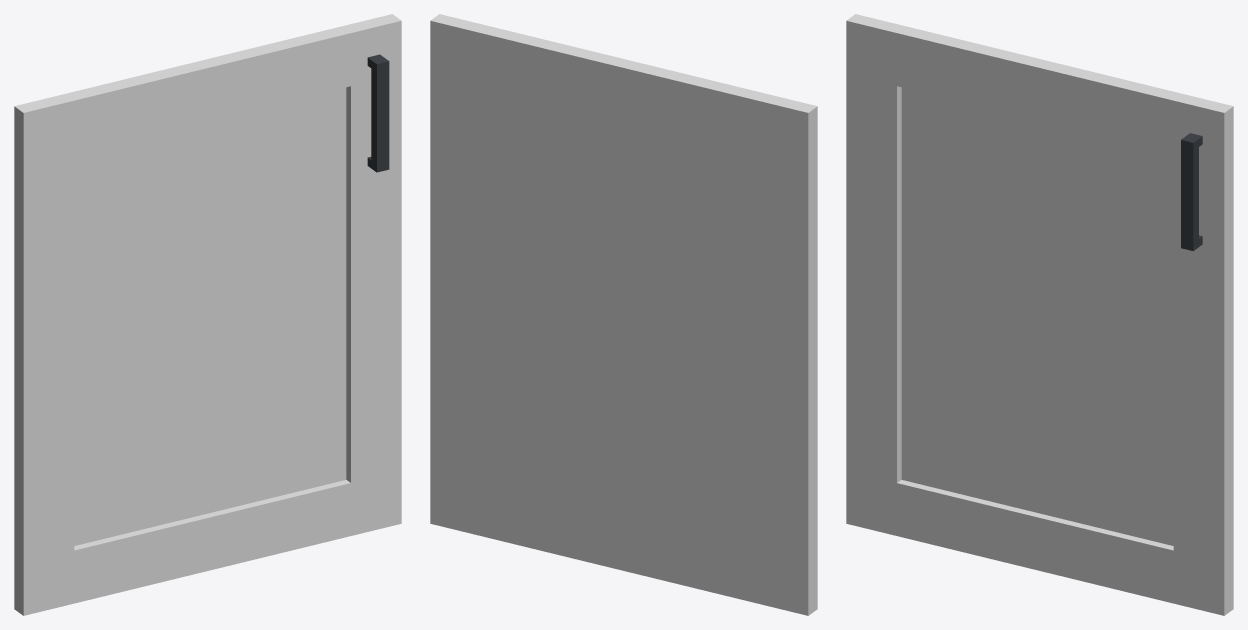
The model's file is Door2_C1_02.fbx.
3 renders of one model, left to right at view 1: azimuth 30°, elevation 25°; view 2: azimuth 150°, elevation 25°; view 3: azimuth 330°, elevation 25°, orthographic.
Parts seen in each view (by area): view 1: Door2_C1_02; view 2: Door2_C1_02; view 3: Door2_C1_02.
Boxes of the visible parts, x1,y1,x2,y2 form: Door2_C1_02: (14,14,401,615); Door2_C1_02: (430,14,817,615); Door2_C1_02: (846,14,1233,615).
Bounding box in the file's own units: 59 × 75 × 5.03.
